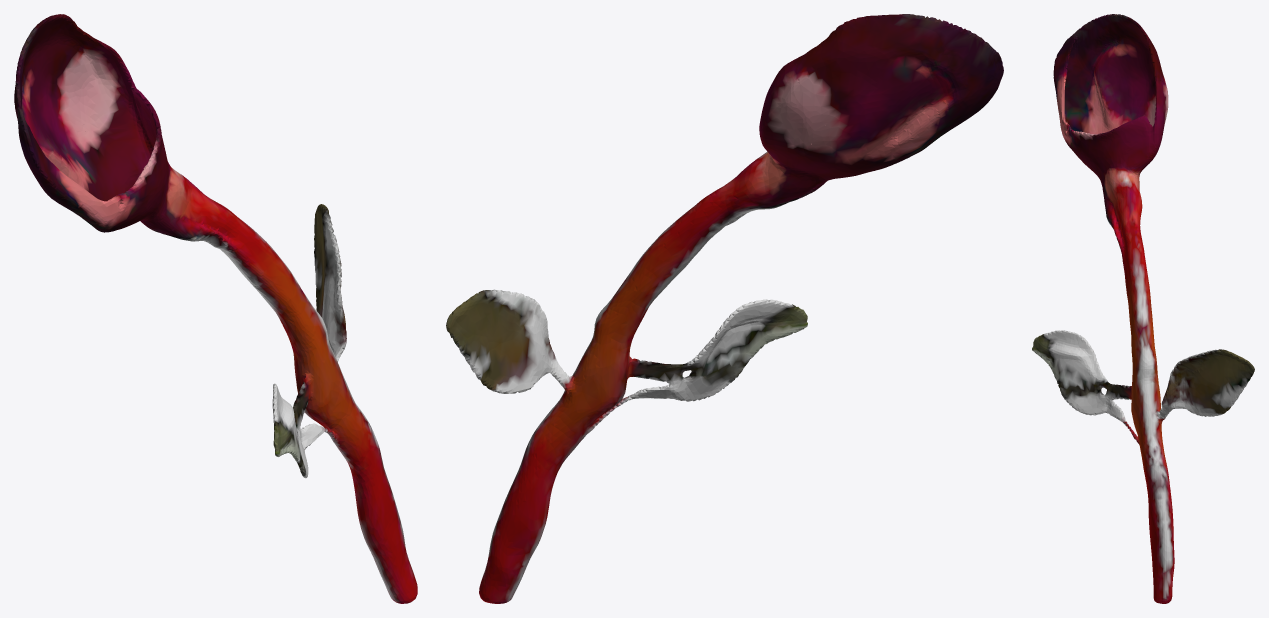
File: rose_pink.glb
The picture shows the model from 3 angles, left to right: view 1: azimuth 30°, elevation 25°; view 2: azimuth 150°, elevation 25°; view 3: azimuth 270°, elevation 25°; orthographic projection. The views are drawn at different scales.
Parts seen in each view (by area): view 1: geometry_0; view 2: geometry_0; view 3: geometry_0.
Part boxes in pixels (box(x1,y1,x2,y2)): geometry_0: box(14, 14, 417, 603); geometry_0: box(446, 14, 1003, 603); geometry_0: box(1032, 14, 1254, 603).
Bounding box in the file's own units: 0.442 × 0.625 × 0.2764.
